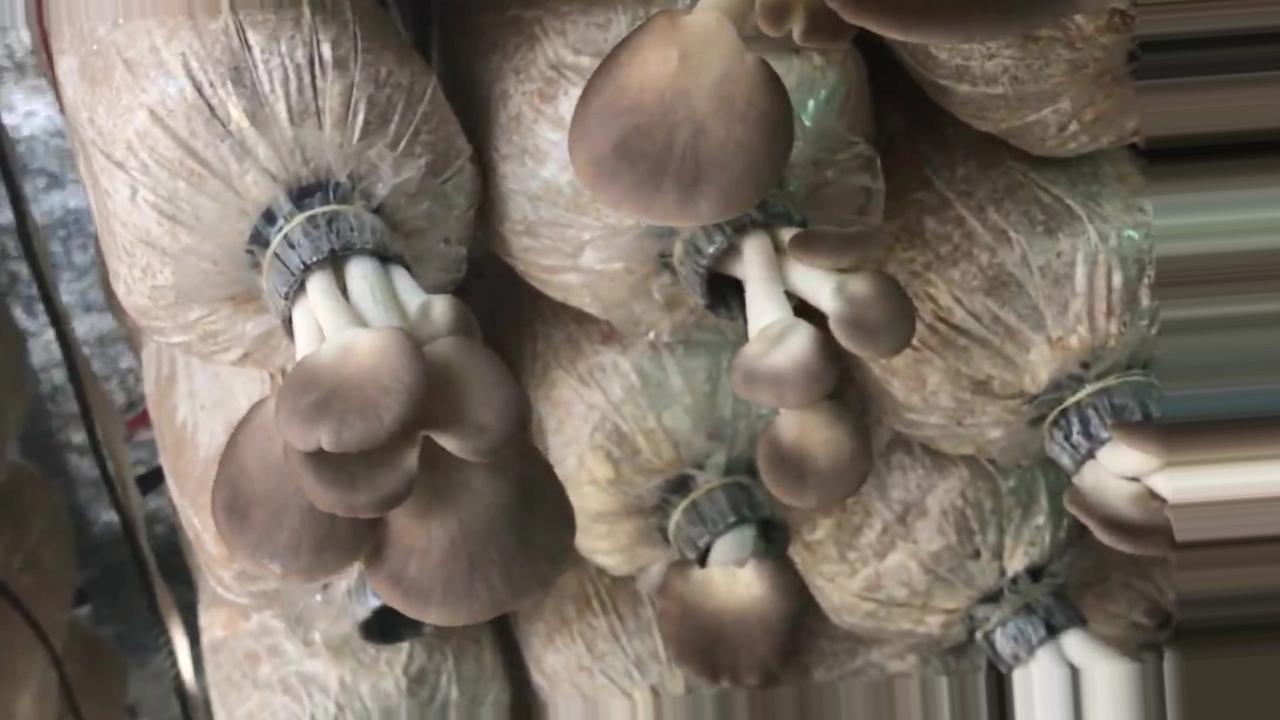nam: (216, 203, 574, 627), (568, 1, 1072, 223), (677, 205, 918, 512), (1062, 376, 1279, 559), (658, 487, 818, 691)
